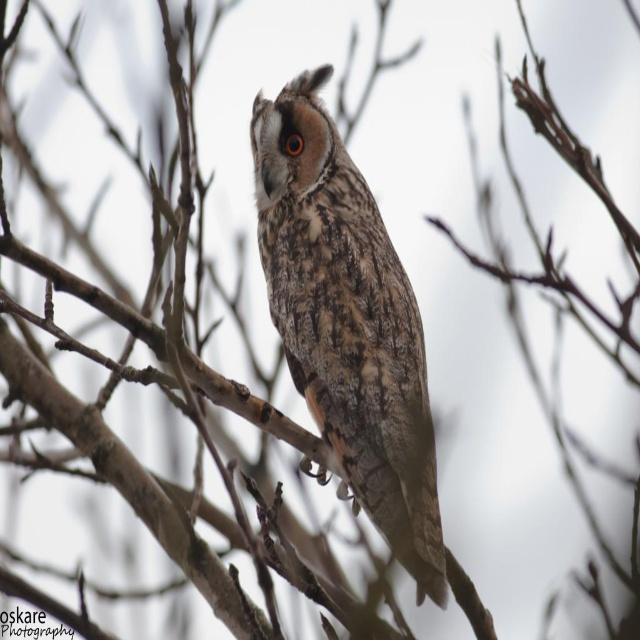Owl: (244, 60, 452, 611)
